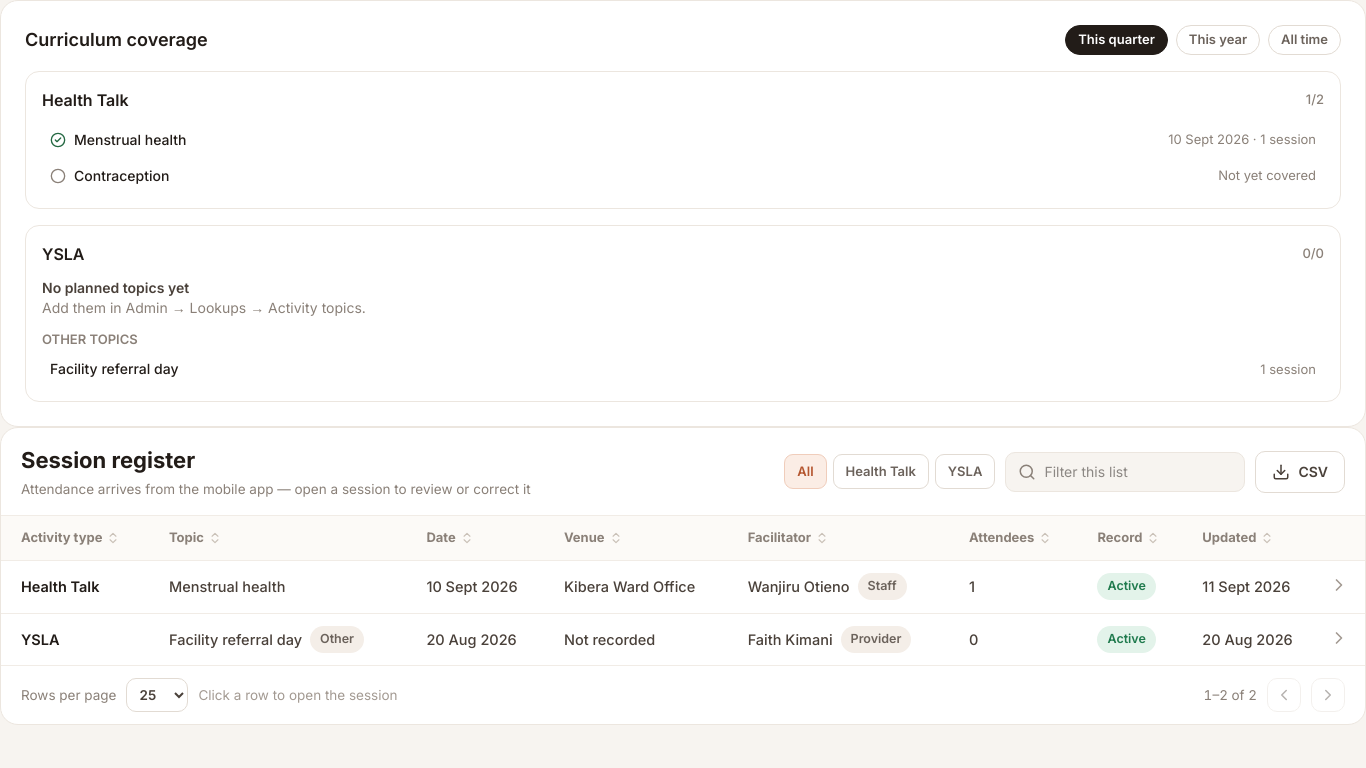
Scenario: session drawer › lists attendees by full name and offers add and remove
Click the button named "Open Menstrual health" at x=1339, y=585, box [1327, 573, 1351, 597]
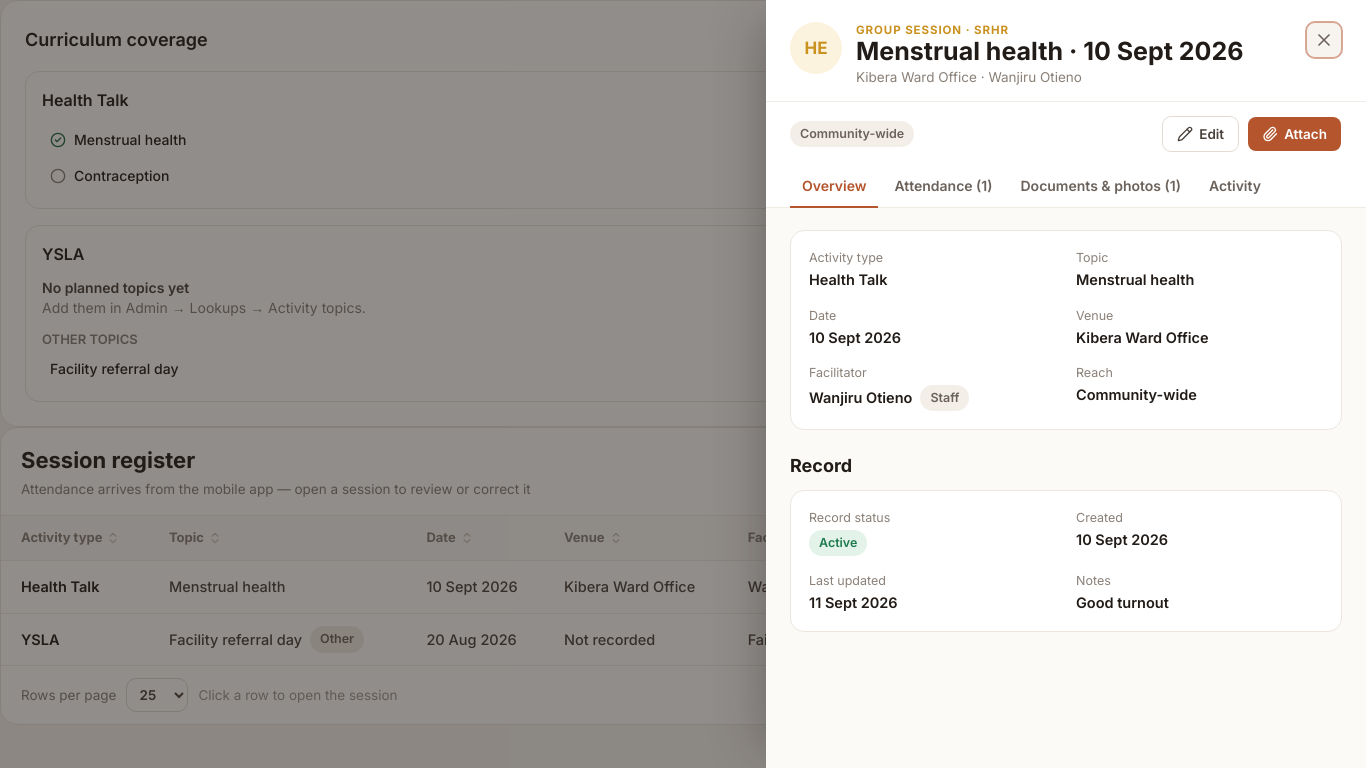
Expected: the tab "Documents & photos (1)" is shown, [1008, 166, 1193, 208]
Click the tab "Attendance (1)" at x=944, y=187, box [882, 166, 1004, 208]
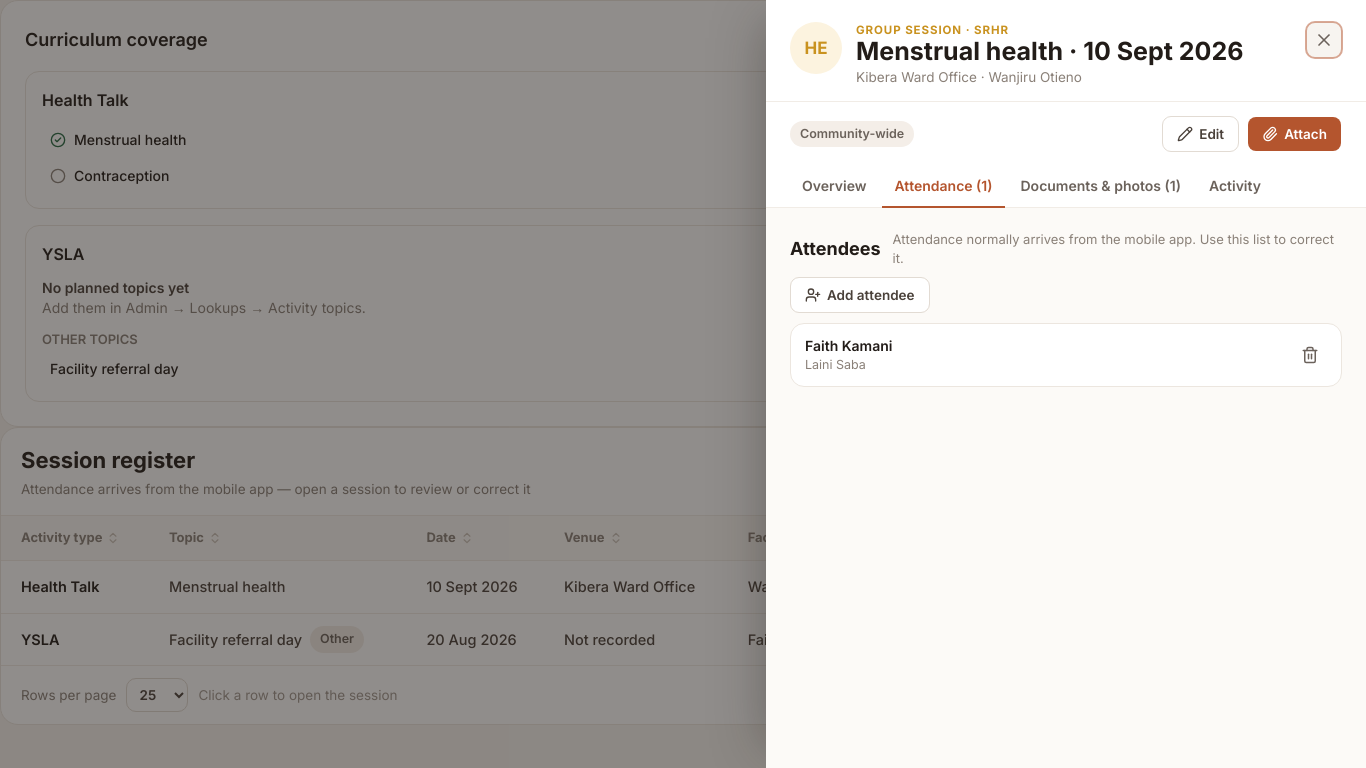
Expected: the dialog shows "Faith Kamani", [805, 336, 1281, 374]
Expected: the dialog shows "Laini Saba", [805, 336, 1281, 374]
Expected: the button "Add attendee" is enabled, [790, 277, 930, 313]
